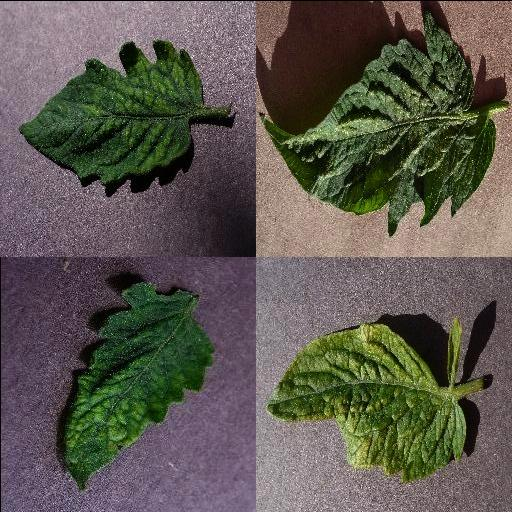Mosaic Virus: (62, 280, 216, 490), (15, 37, 205, 187)
Spider Mites: (259, 9, 499, 234), (266, 321, 466, 481)
